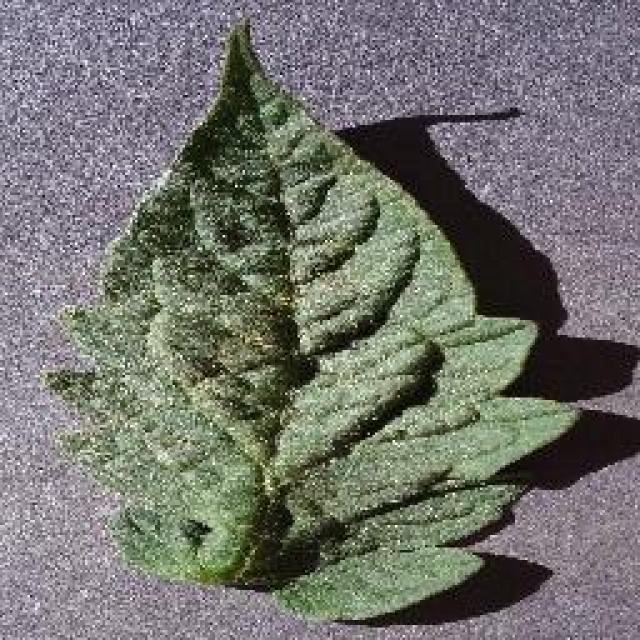Tomato healthy leaf: (50, 25, 585, 615)
